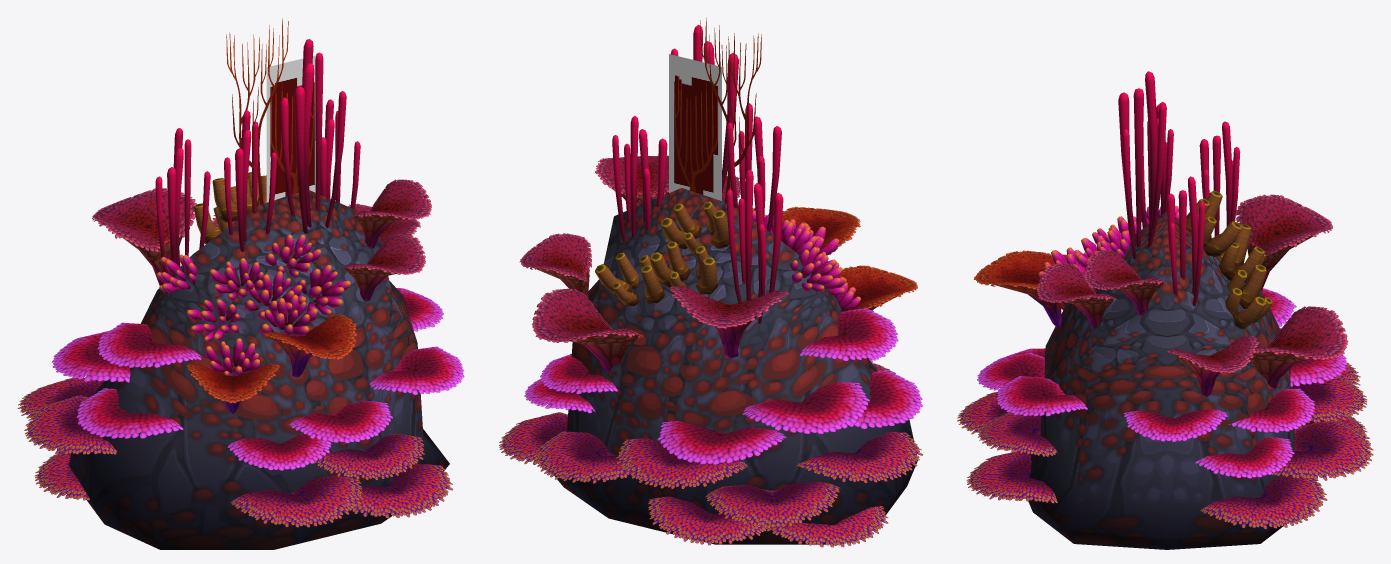
The model's file is CoralSet_10.FBX.
3 views of the same model, side by side, from view 1: azimuth 30°, elevation 25°; view 2: azimuth 150°, elevation 25°; view 3: azimuth 270°, elevation 25° (orthographic). The views are drawn at different scales.
Visible parts, largest first — view 1: Box005, Plane241, Plane230, CoralSet_10, Line162, Plane366, Line165, Line163, Plane367, Line164, Line210, Line212 (+8 smaller); view 2: Box005, Plane230, CoralSet_10, Plane241, Plane366, Line165, Line164, Line163, Line275, Line277, Line276, Plane367 (+4 smaller); view 3: Box005, CoralSet_10, Plane230, Plane241, Line162, Line164, Plane244, Line165, Line276, Line275, Line277, Line163 (+1 smaller).
Part boxes in pixels (x1,y1,x2,y2): Box005: (69,190,449,549); Plane241: (52,288,464,470); Plane230: (17,377,452,527); CoralSet_10: (92,179,431,413); Line162: (280,39,346,233); Plane366: (266,55,315,202); Line165: (155,128,210,273); Line163: (224,110,277,251); Plane367: (226,18,288,204); Line164: (320,99,360,209); Line210: (297,265,350,315); Line212: (209,258,263,300); Box005: (554,188,917,544); Plane230: (499,363,922,547); CoralSet_10: (519,155,917,372); Plane241: (540,308,922,464); Plane366: (669,54,721,200); Line165: (726,169,783,323); Line164: (612,116,667,242); Line163: (726,103,781,231); Line275: (661,201,728,254); Line277: (650,241,717,294); Line276: (595,252,664,305); Plane367: (700,18,761,202); Box005: (1028,211,1305,549); CoralSet_10: (974,194,1348,396); Plane230: (957,362,1373,529); Plane241: (977,288,1347,441); Line162: (1118,71,1166,258); Line164: (1166,176,1205,306); Plane244: (1195,437,1294,478); Line165: (1199,121,1240,238); Line276: (1225,264,1272,329); Line275: (1186,190,1241,256); Line277: (1217,224,1266,282); Line163: (1141,104,1173,228).
Size of the model in its own units: 454 by 516 by 434.
